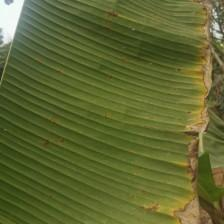pestalotiopsis: (0, 0, 211, 224)
